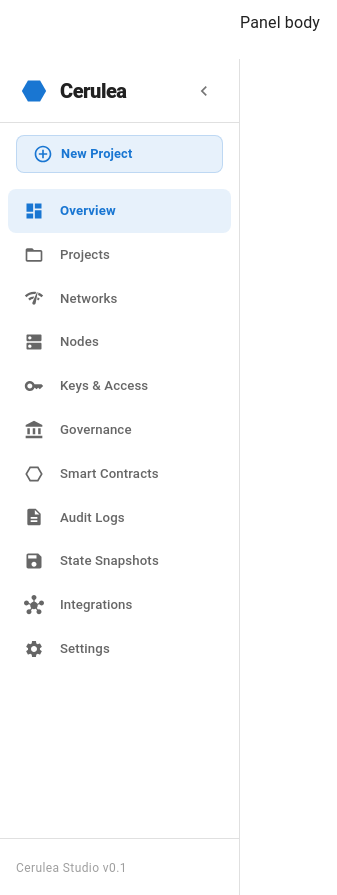
Scenario: the Dashboard frame › names each area in a tooltip while the list is narrow
The width and height of the screenshot is (337, 895).
Click the button with test id "ChevronLeftIcon": (204, 90) [189,76,219,106]
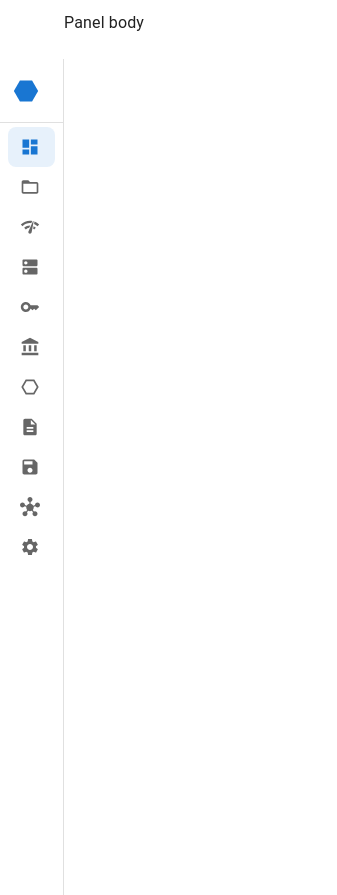
Hover over the list item named "Governance": (30, 347) [20,337,40,357]
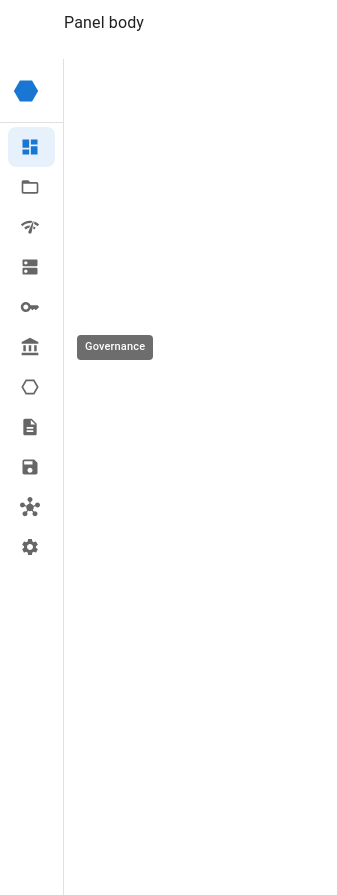
expect the tooltip reads "Governance": met, box [85,340,145,353]
